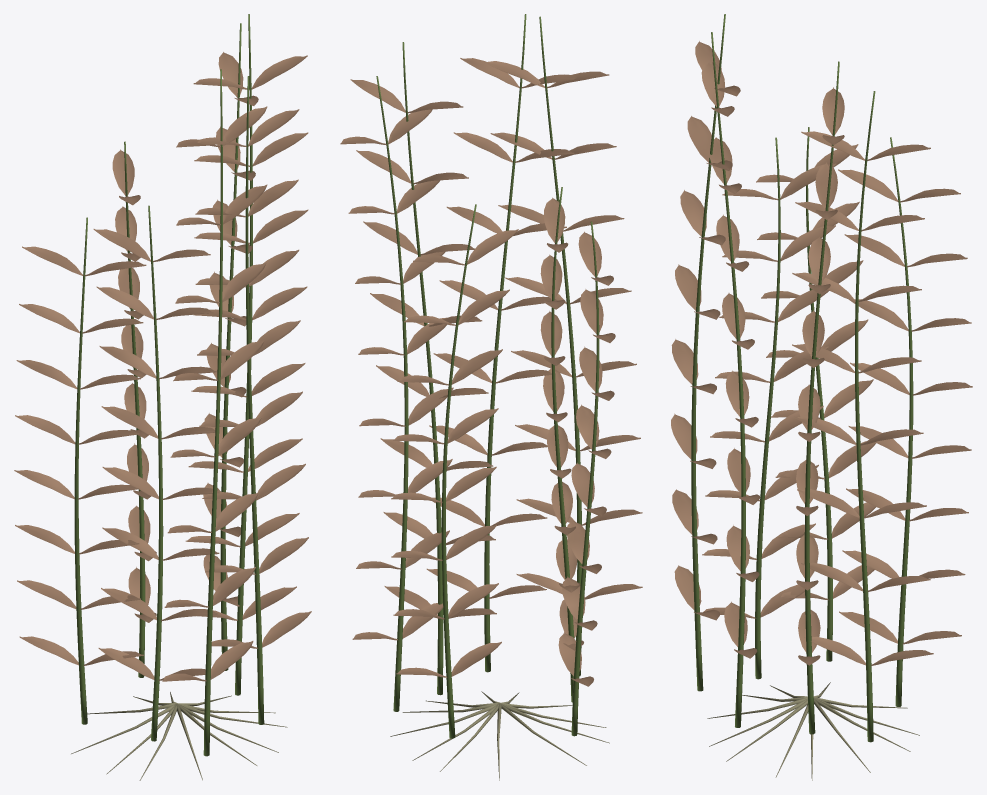
Rendered from rotala-mobile.glb.
The picture shows the model from 3 angles, left to right: view 1: azimuth 30°, elevation 25°; view 2: azimuth 150°, elevation 25°; view 3: azimuth 270°, elevation 25°; orthographic projection. The views are drawn at different scales.
Visible parts, largest first — view 1: opposite-leaf, branching-stem, anchoring-root; view 2: opposite-leaf, branching-stem, anchoring-root; view 3: opposite-leaf, branching-stem, anchoring-root.
Boxes of the visible parts, left/top/right/bottom form: opposite-leaf: left=14, top=52, right=311, bottom=681; branching-stem: left=74, top=14, right=264, bottom=756; anchoring-root: left=71, top=692, right=287, bottom=780; opposite-leaf: left=340, top=58, right=642, bottom=686; branching-stem: left=376, top=14, right=599, bottom=738; anchoring-root: left=390, top=691, right=609, bottom=780; opposite-leaf: left=671, top=41, right=972, bottom=665; branching-stem: left=691, top=14, right=913, bottom=742; anchoring-root: left=707, top=682, right=919, bottom=780.
Size of the model in its own units: 0.3638 by 0.878 by 0.3347.
